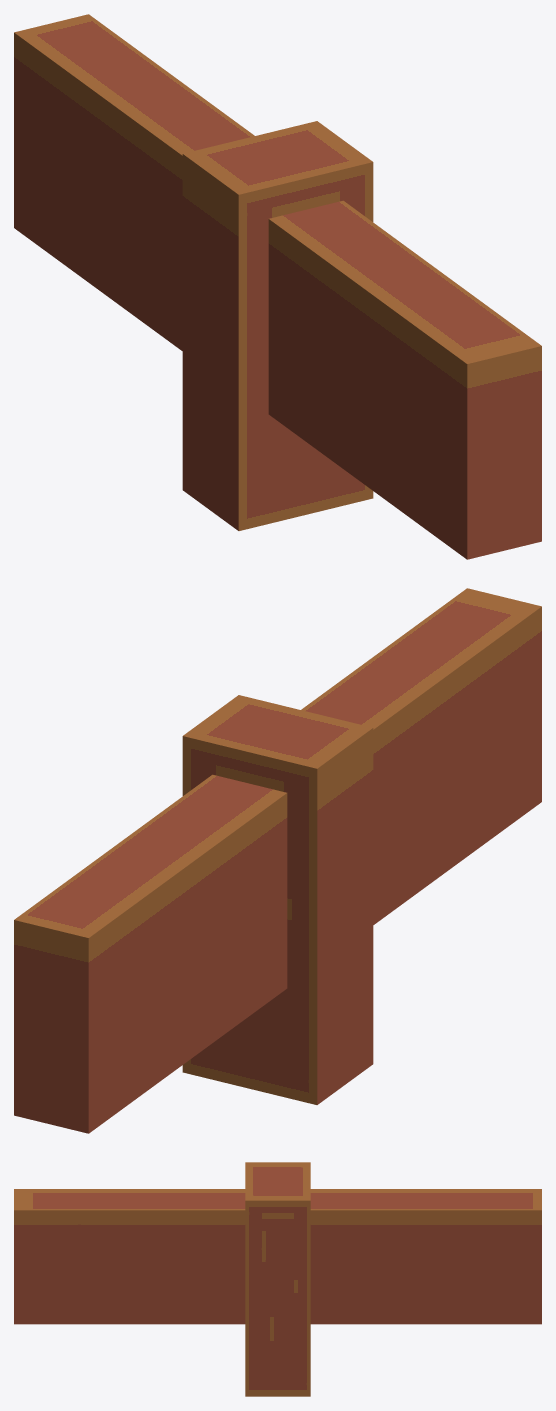
Rendered from fence.gltf.
3 views of the same model, one above another, from view 1: azimuth 30°, elevation 25°; view 2: azimuth 150°, elevation 25°; view 3: azimuth 270°, elevation 25° (orthographic). The views are drawn at different scales.
Bounding box in the file's own units: 0.9 × 2.15 × 5.25.
Materials: 1 (1 with a texture image).
